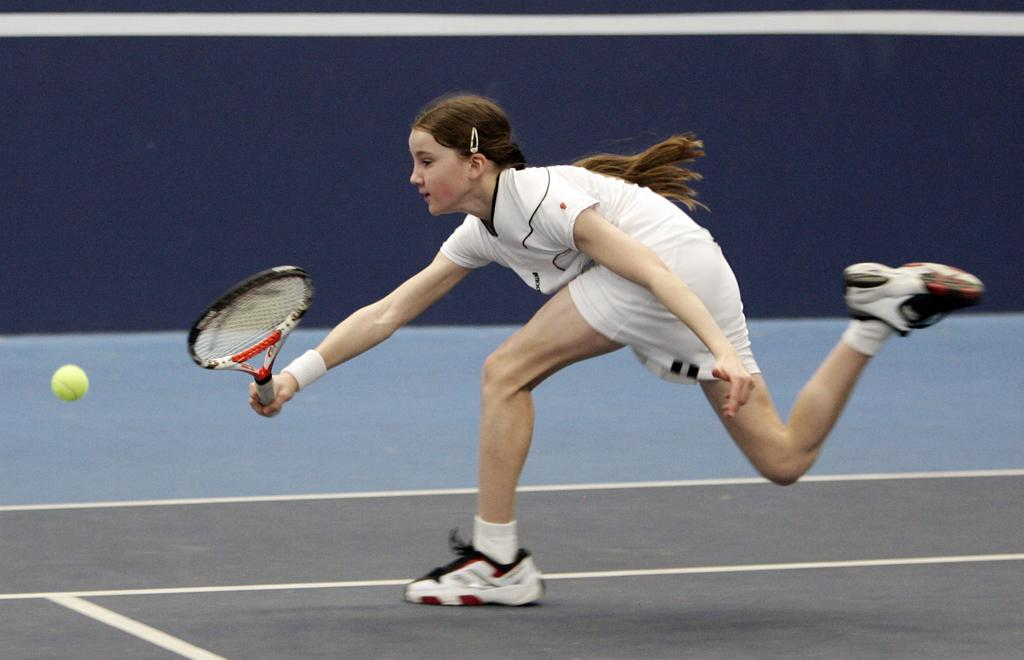face: (408, 128, 468, 216)
